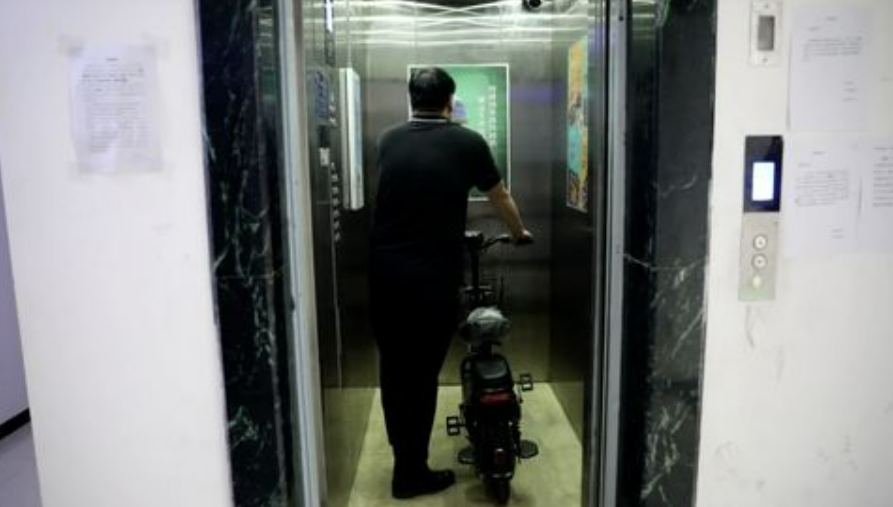ebike: (437, 230, 536, 498)
person: (360, 58, 515, 500)
